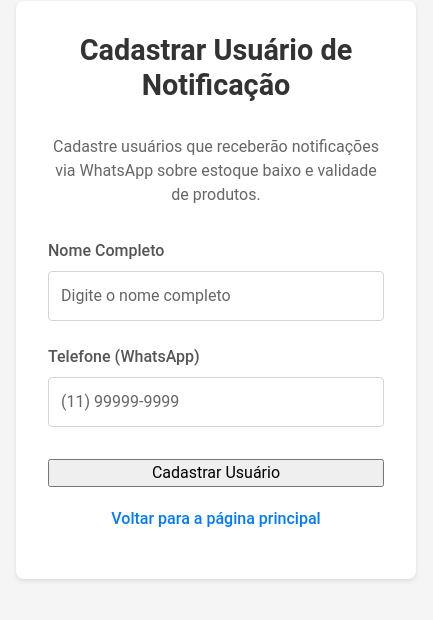
Test: NotificationUserRegister › deve mostrar erro quando telefone já existe
Step 1. Type "João Silva" into the field labelled "Nome Completo" → [216, 296], box [48,270,384,320]
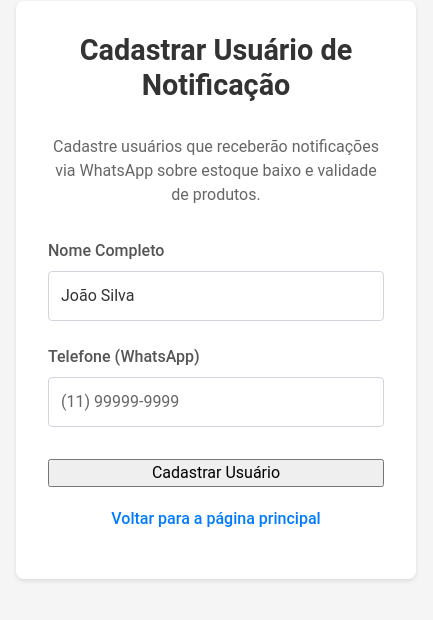
Step 2. Type "11999999999" into the field labelled "Telefone (WhatsApp)" → [216, 402], box [48,376,384,426]
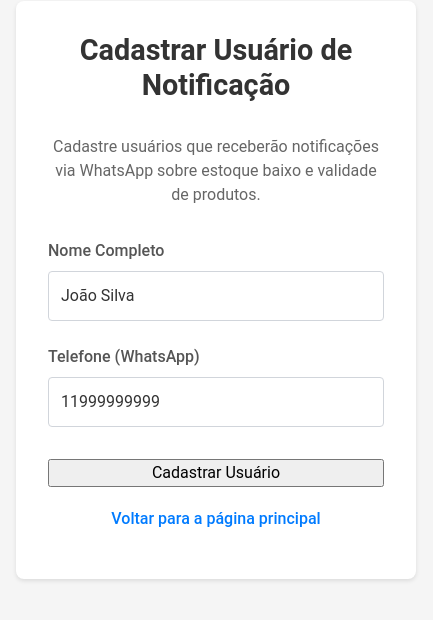
Step 3. Click the button "Cadastrar Usuário" → [216, 472], box [48,458,384,486]
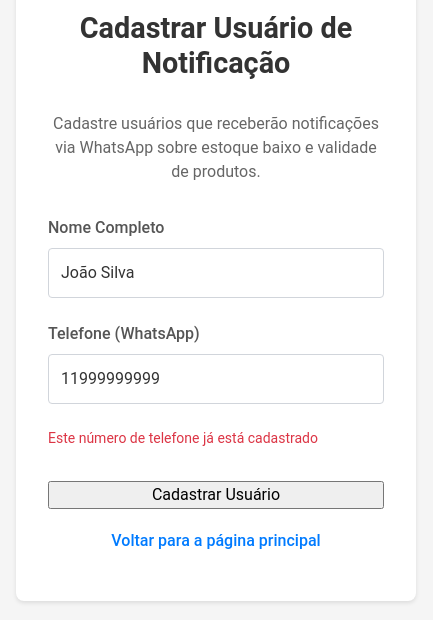
Check: the text "Este número de telefone já está cadastrado" is shown, box [48,430,318,446]
